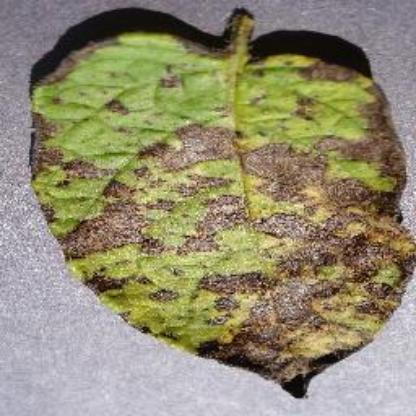Early-Blight: (17, 8, 416, 402)
